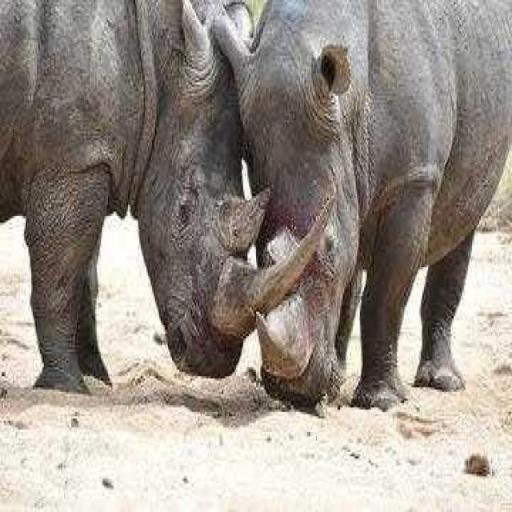Rhino: (0, 0, 331, 396), (209, 0, 511, 412)
